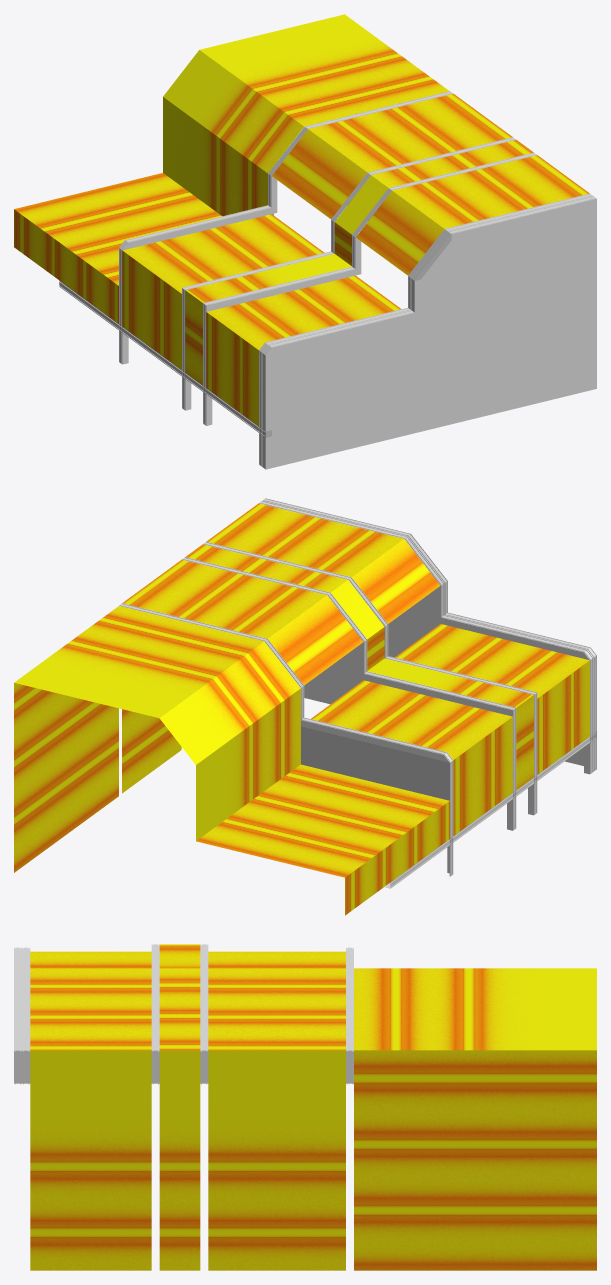
The picture shows the model from 3 angles, top to bottom: view 1: azimuth 30°, elevation 25°; view 2: azimuth 150°, elevation 25°; view 3: azimuth 270°, elevation 25°; orthographic projection. The views are drawn at different scales.
Parts seen in each view (by area): view 1: Cube.549; view 2: Cube.549; view 3: Cube.549.
Part boxes in pixels (box(x1,y1,x2,y2)): Cube.549: box(14, 14, 596, 469); Cube.549: box(14, 498, 596, 915); Cube.549: box(14, 944, 596, 1270).
Size of the model in its own units: 2732 by 1500 by 3600.
